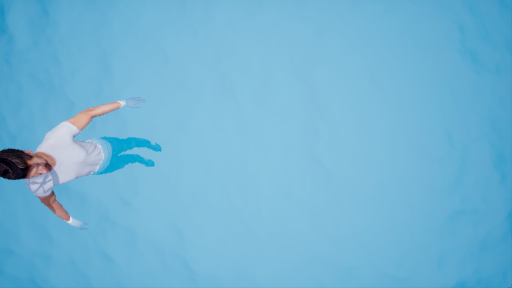person: (1, 96, 176, 231)
